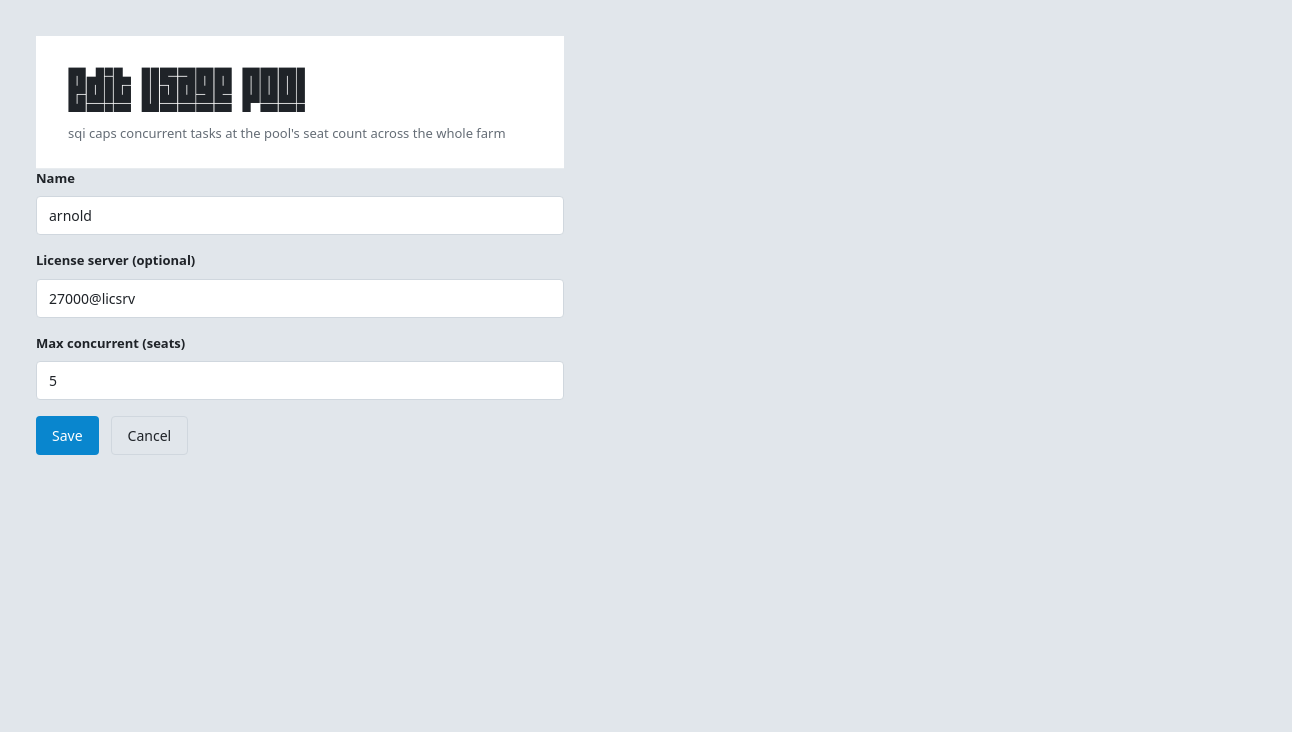
Scenario: UsagePoolForm (edit) › prefills from GET and PUTs on save
Replace the text in the field showing "arnold" with "arnold2". click: (300,216)
box: [36, 196, 564, 235]
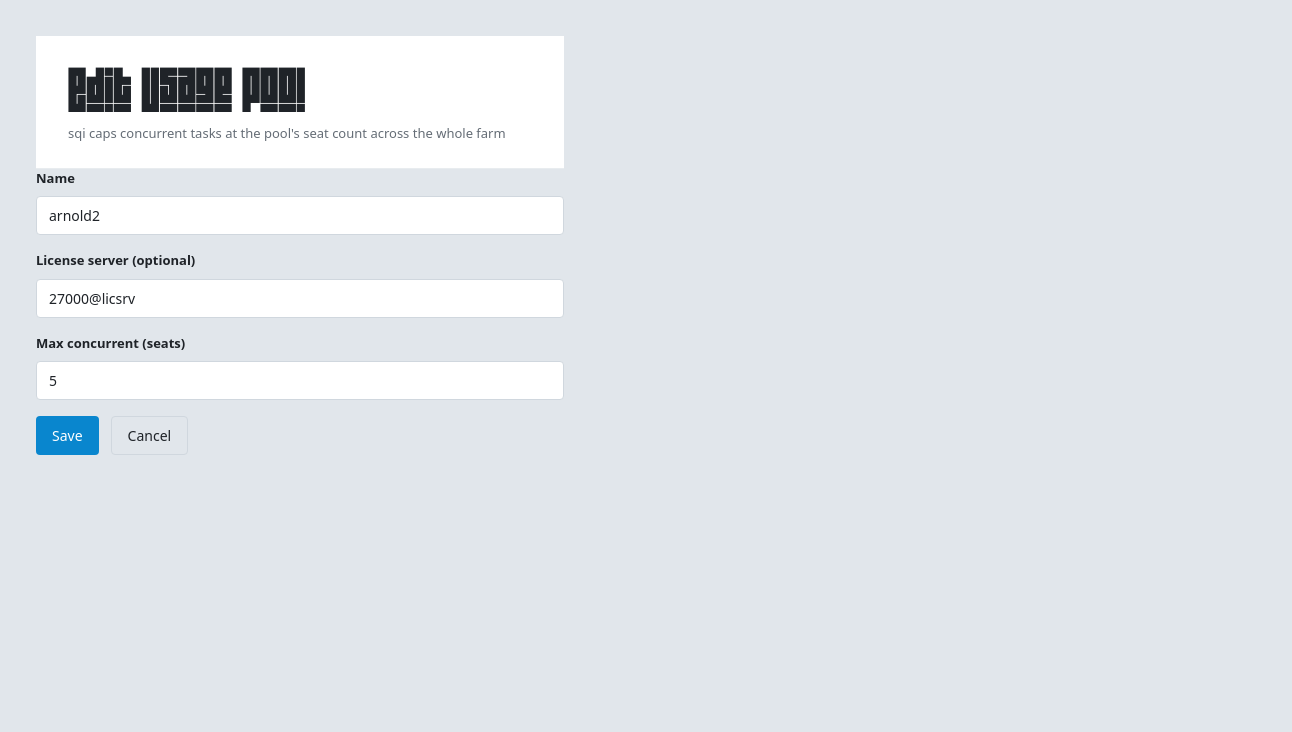
Click the button "Save". click: (67,436)
box: [36, 416, 99, 455]
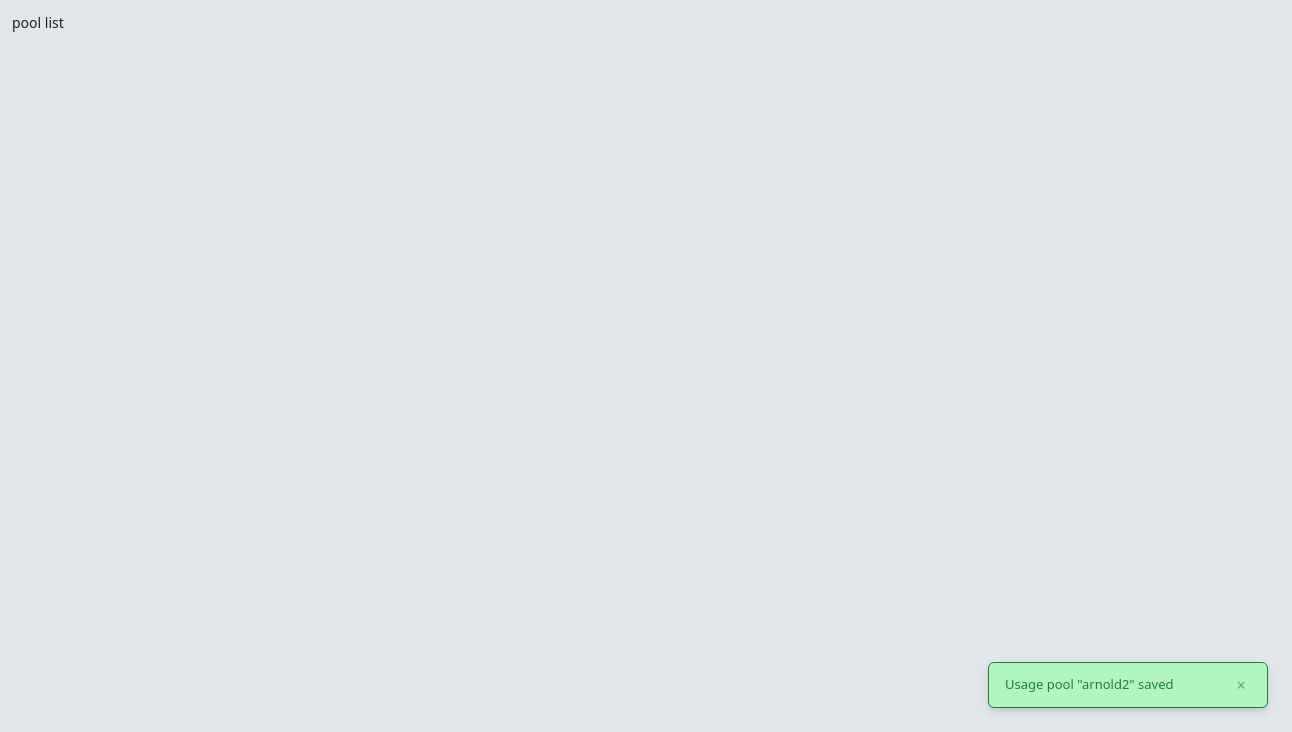
Expected: the text "pool list" is shown, [12, 13, 64, 32]
